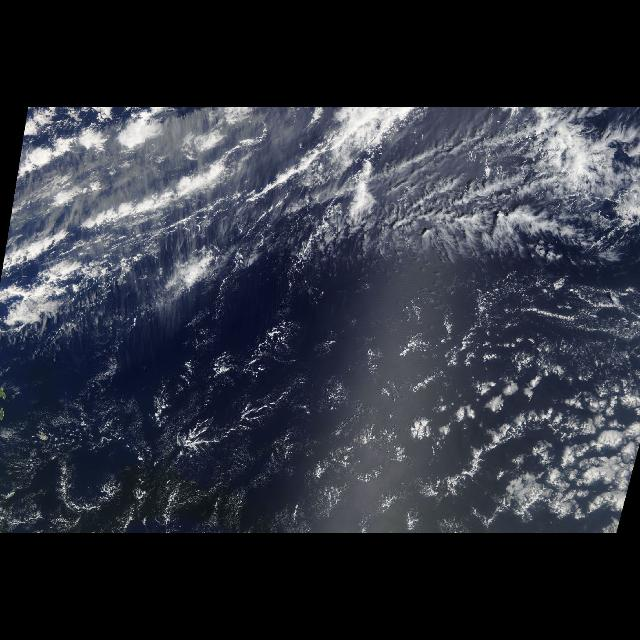Fish: (9, 120, 349, 264)
Gravel: (184, 292, 636, 524)
